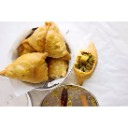samosa: (22, 21, 70, 60), (2, 53, 47, 84), (75, 41, 104, 82)
